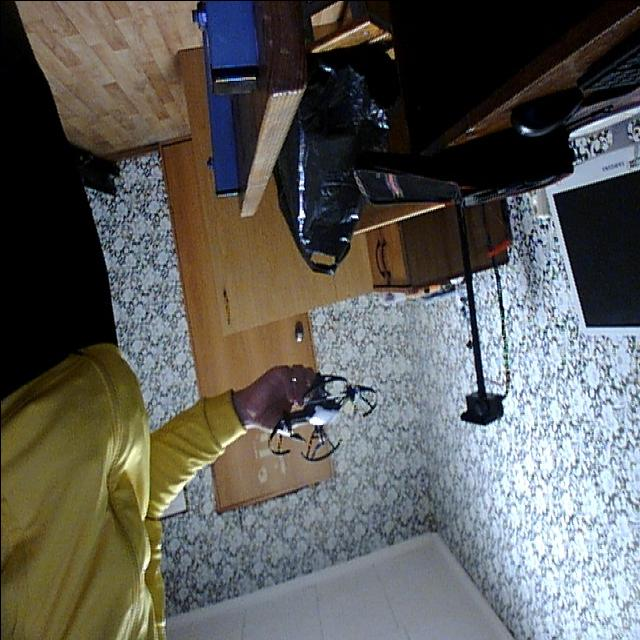drone: (262, 357, 379, 465)
